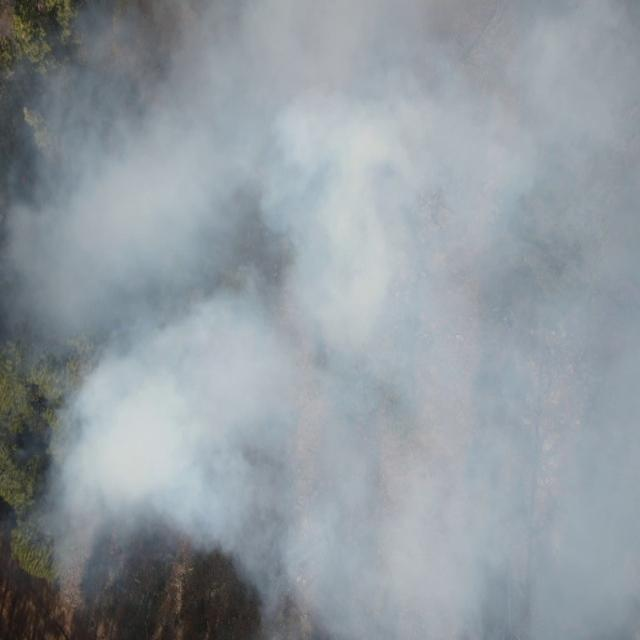smoke: (243, 0, 640, 640), (0, 72, 242, 350), (13, 348, 244, 592), (60, 0, 242, 71)
